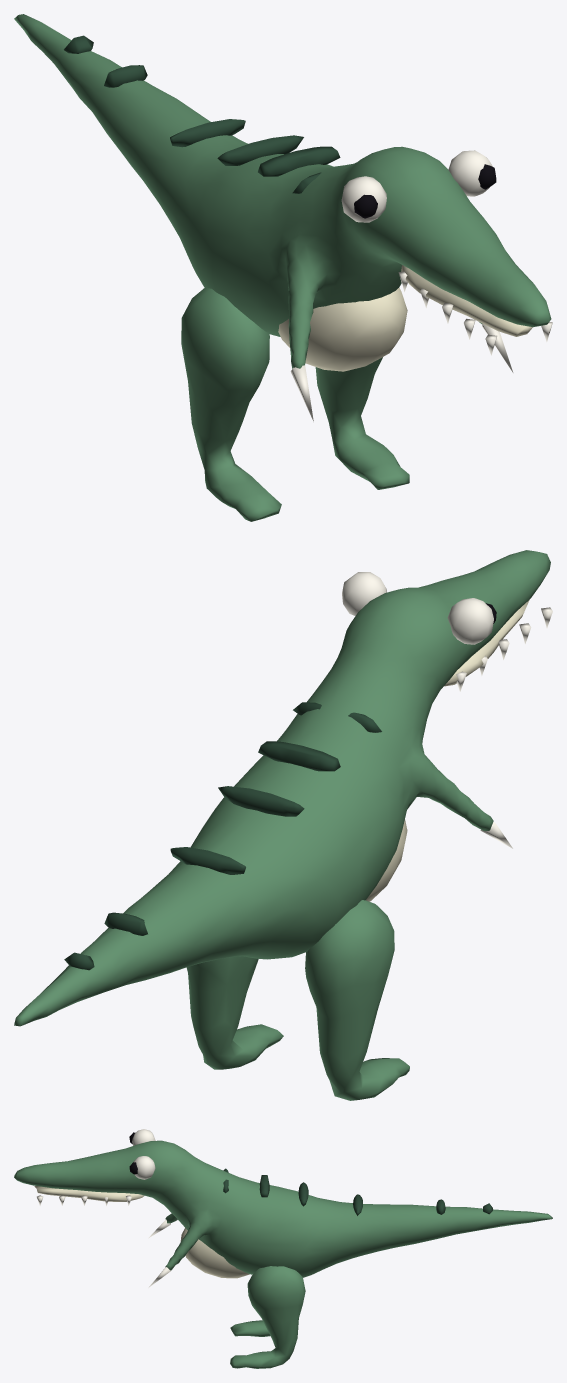
File: Dino_Baryonyx.fbx
The picture shows the model from 3 angles, top to bottom: view 1: azimuth 30°, elevation 25°; view 2: azimuth 150°, elevation 25°; view 3: azimuth 270°, elevation 25°; orthographic projection. The views are drawn at different scales.
Parts seen in each view (by area): view 1: Body, LegL, Belly, LegR, Accent, EyeWhite, Pupil; view 2: Body, LegL, LegR, Accent, EyeWhite, Belly; view 3: Body, LegR, Belly, EyeWhite, Accent, LegL.
Boxes of the visible parts, x1,y1,x2,y2 form: Body: (14,14,551,368); LegL: (181,287,281,521); Belly: (278,265,532,371); LegR: (315,357,409,489); Accent: (64,35,340,193); EyeWhite: (290,150,552,421); Pupil: (354,164,496,218); Body: (14,550,550,1026); LegL: (305,900,409,1100); LegR: (186,956,283,1069); Accent: (64,702,381,970); EyeWhite: (342,572,552,848); Belly: (366,600,529,901); Body: (14,1140,552,1277); LegR: (230,1266,305,1368); Belly: (34,1186,249,1278); EyeWhite: (37,1129,171,1287); Accent: (223,1168,492,1215); LegL: (230,1320,270,1336).
Size of the model in its own units: 1.98 by 3.81 by 8.99.
